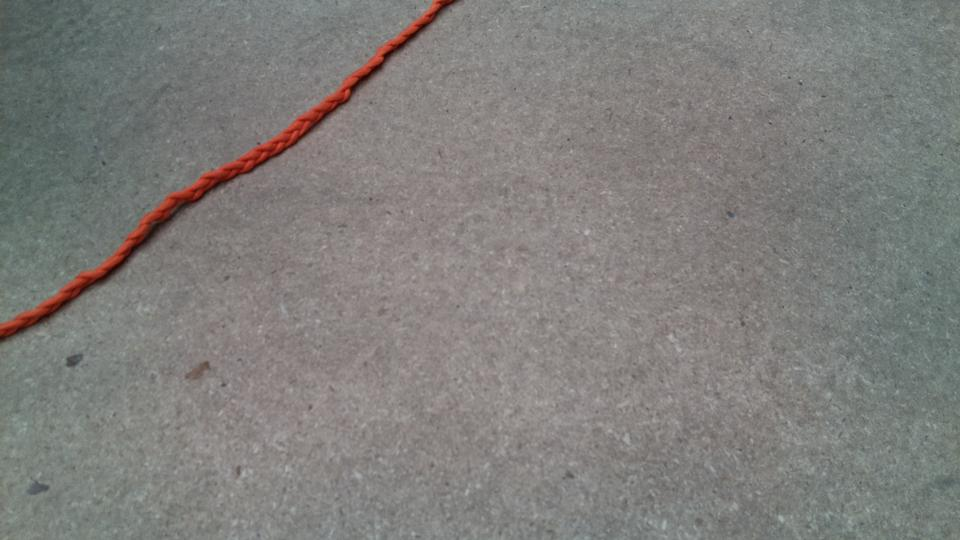rope: (1, 1, 433, 324)
